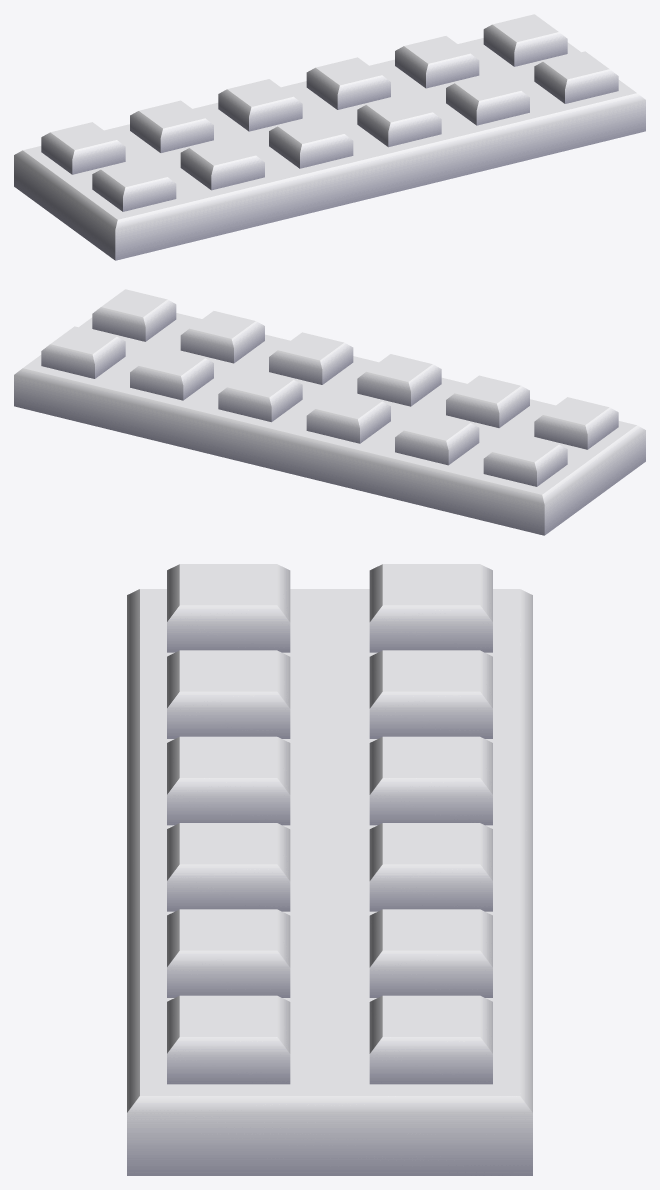
The model's file is square-hq-plate-2x6.glb.
The picture shows the model from 3 angles, top to bottom: view 1: azimuth 30°, elevation 25°; view 2: azimuth 150°, elevation 25°; view 3: azimuth 270°, elevation 25°; orthographic projection. The views are drawn at different scales.
Parts seen in each view (by area): view 1: square-hq-plate-2x6; view 2: square-hq-plate-2x6; view 3: square-hq-plate-2x6.
Part boxes in pixels (x1=…): square-hq-plate-2x6: x1=14, y1=14, x2=645, y2=260; square-hq-plate-2x6: x1=14, y1=289, x2=645, y2=535; square-hq-plate-2x6: x1=127, y1=564, x2=532, y2=1175.
Bounding box in the file's own units: 2.39 × 0.25 × 0.79.
Materials: 1 (1 with a texture image).
